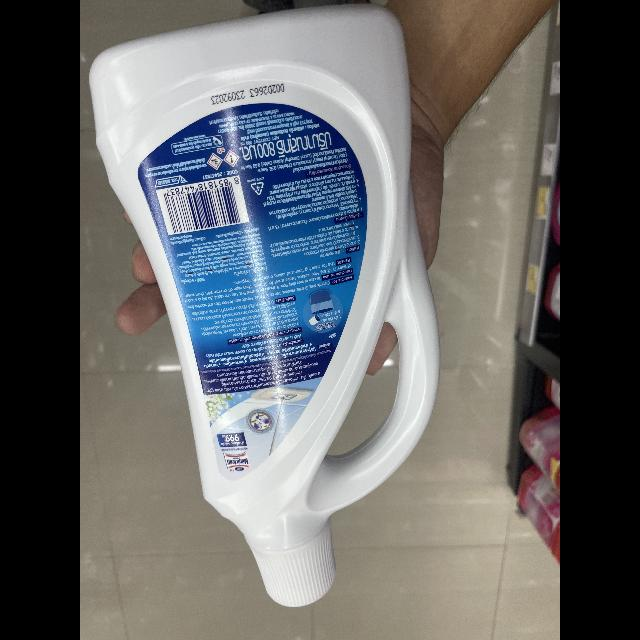chemical_plastic_gallon: (83, 2, 444, 614)
